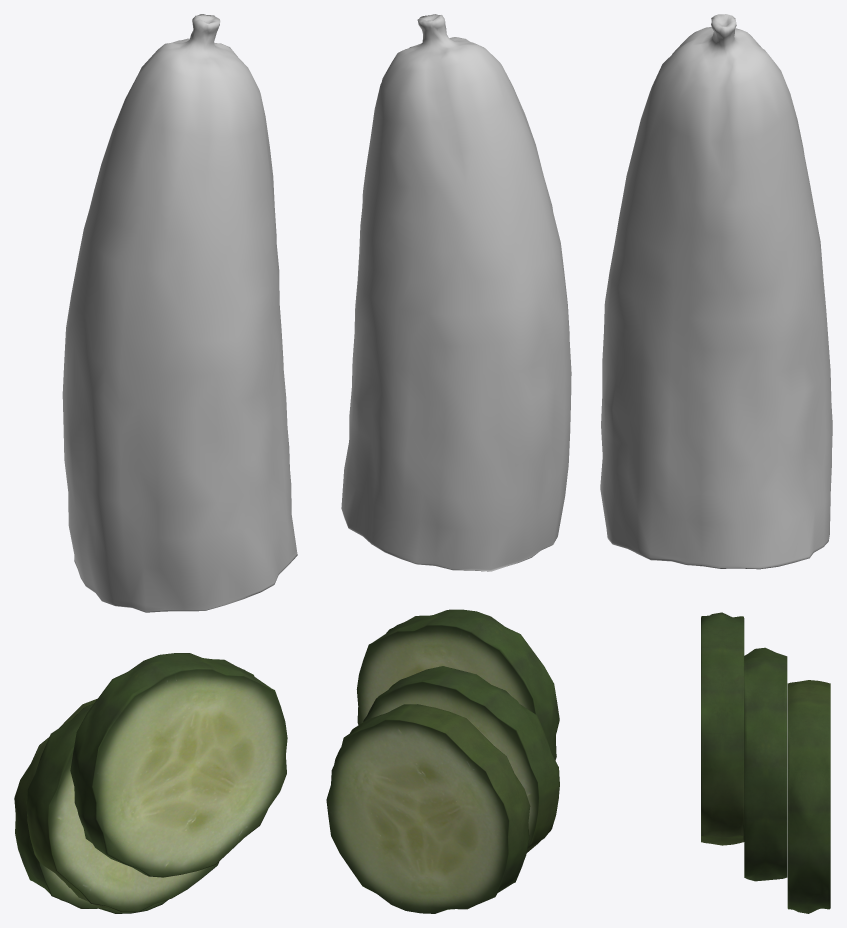
Rendered from Sliced_Cucumber.obj.
3 views of the same model, side by side, from view 1: azimuth 30°, elevation 25°; view 2: azimuth 150°, elevation 25°; view 3: azimuth 270°, elevation 25° (orthographic). The views are drawn at different scales.
Visible parts, largest first — view 1: cucumber_03_pivot, cucumber_04_pivot, cucumber_05_pivot, cucumber_06_pivot; view 2: cucumber_03_pivot, cucumber_06_pivot, cucumber_04_pivot, cucumber_05_pivot; view 3: cucumber_03_pivot, cucumber_06_pivot, cucumber_04_pivot, cucumber_05_pivot.
Part boxes in pixels (<box>): cucumber_03_pivot: <box>62,14,297,612</box>; cucumber_04_pivot: <box>70,653,287,877</box>; cucumber_05_pivot: <box>26,703,218,912</box>; cucumber_06_pivot: <box>14,698,168,913</box>; cucumber_03_pivot: <box>341,14,571,571</box>; cucumber_06_pivot: <box>326,704,530,913</box>; cucumber_04_pivot: <box>356,609,559,760</box>; cucumber_05_pivot: <box>363,666,559,852</box>; cucumber_03_pivot: <box>600,14,832,569</box>; cucumber_06_pivot: <box>787,680,830,913</box>; cucumber_04_pivot: <box>701,612,744,845</box>; cucumber_05_pivot: <box>744,647,787,881</box>.
Bounding box in the file's own units: 4.61 × 17.66 × 4.14.
